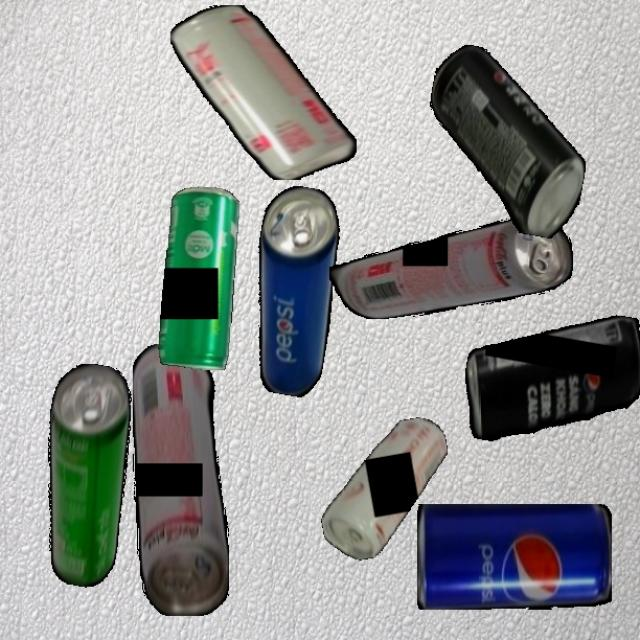debris: (411, 40, 602, 242), (170, 4, 357, 180), (455, 292, 640, 464), (22, 359, 147, 591), (132, 343, 229, 616), (235, 182, 352, 399), (328, 216, 573, 319), (307, 414, 463, 565), (416, 503, 612, 610), (157, 186, 239, 370)
